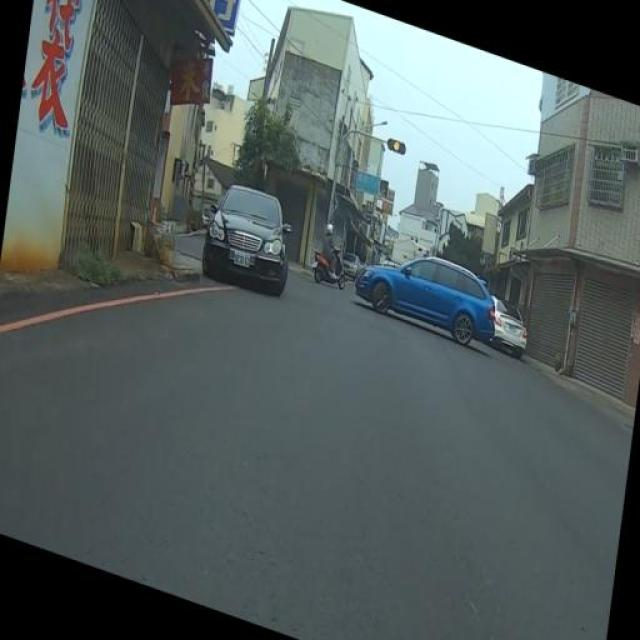illegalparking: (177, 177, 305, 317)
